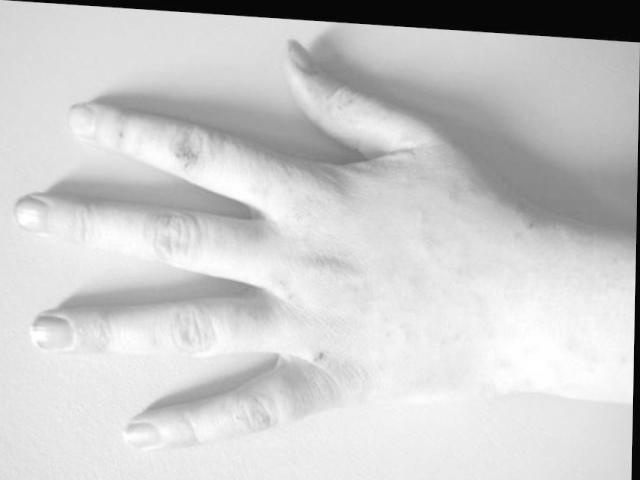not-gloved: (16, 34, 482, 450)
